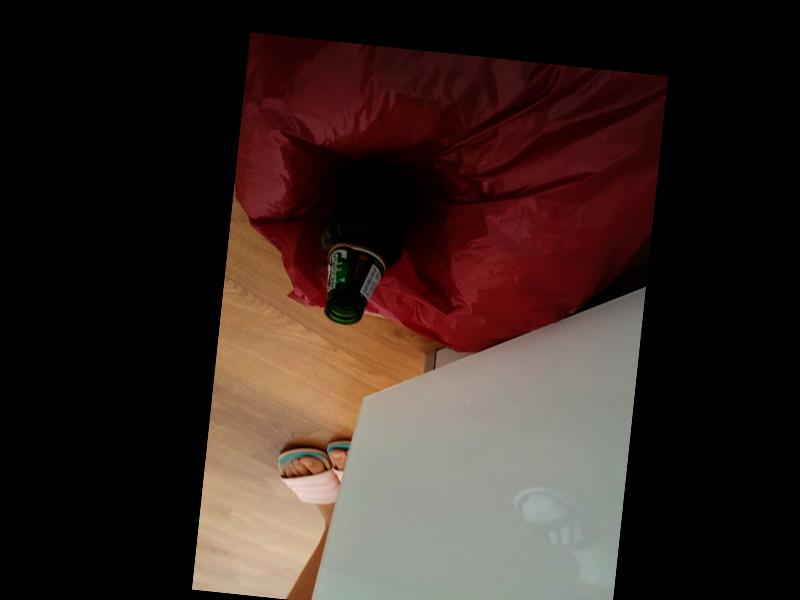Beer: (313, 156, 418, 329)
